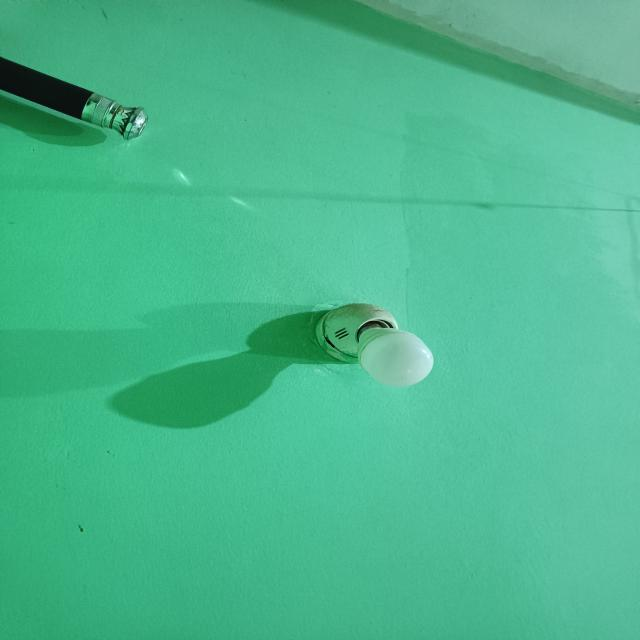bulb_off: (318, 304, 439, 390)
